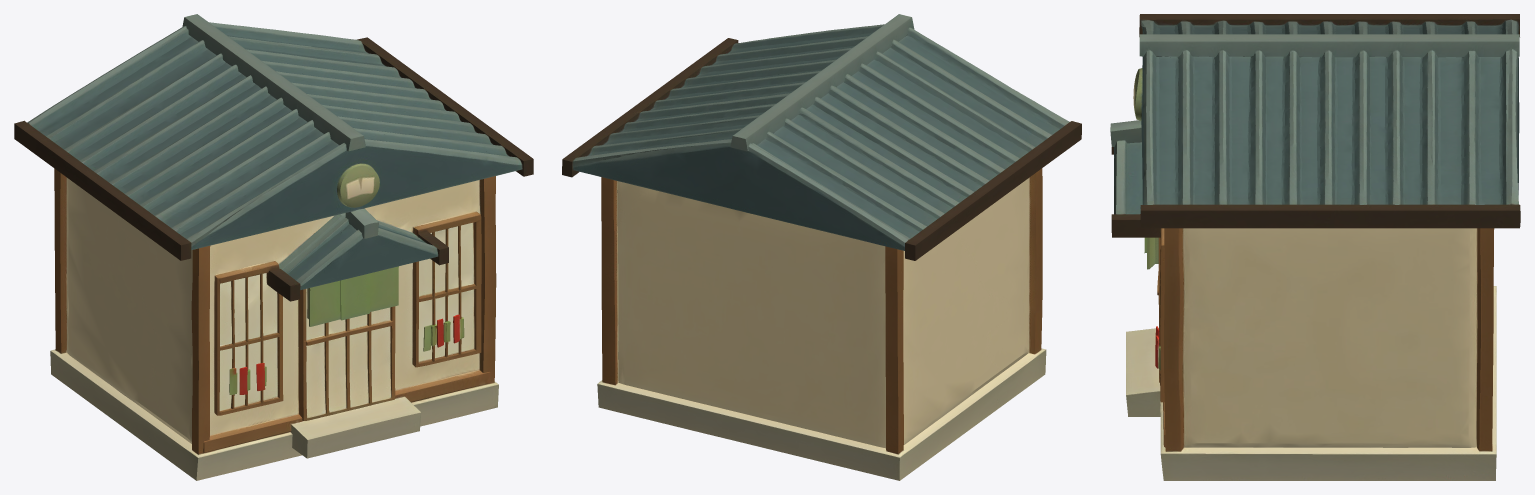
The picture shows the model from 3 angles, left to right: view 1: azimuth 30°, elevation 25°; view 2: azimuth 150°, elevation 25°; view 3: azimuth 270°, elevation 25°; orthographic projection. The views are drawn at different scales.
Parts seen in each view (by area): view 1: model; view 2: model; view 3: model.
Boxes of the visible parts, x1=… form: model: x1=14, y1=14, x2=533, y2=480; model: x1=562, y1=14, x2=1081, y2=480; model: x1=1110, y1=14, x2=1520, y2=480.
Size of the model in its own units: 1.89 by 1.61 by 1.67.
1 material, 1 textured.
